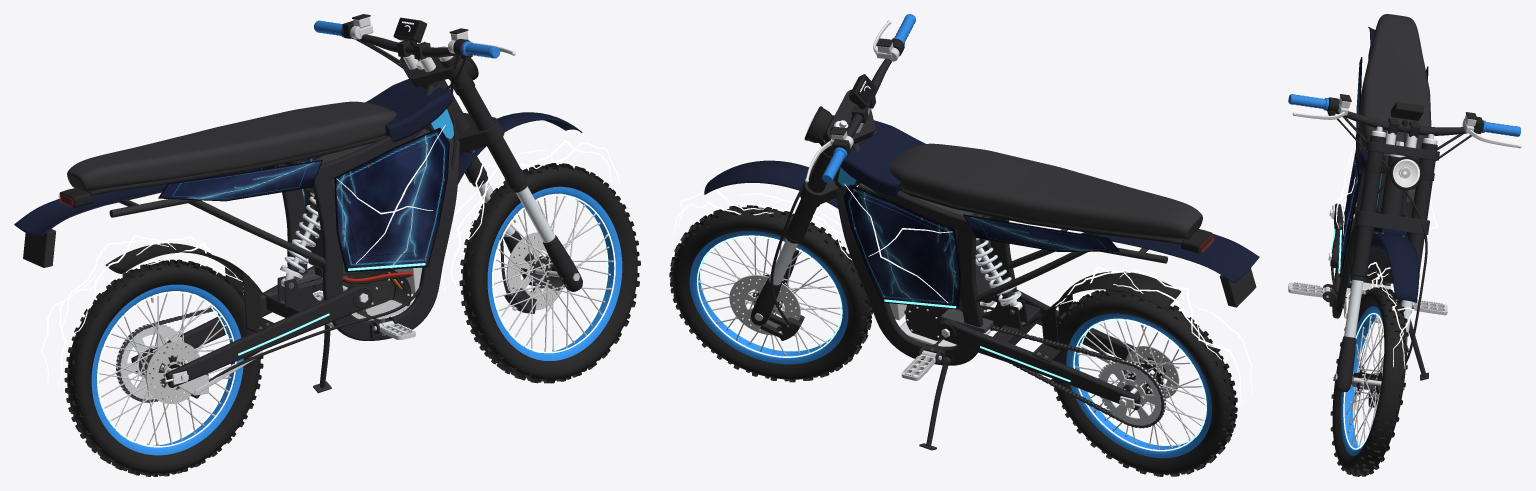
File: surron-light-bee-x-storm.glb
3 renders of one model, left to right at view 1: azimuth 30°, elevation 25°; view 2: azimuth 150°, elevation 25°; view 3: azimuth 270°, elevation 25°, orthographic. The views are drawn at different scales.
Parts seen in each view (by area): view 1: Seat, Tire_R, Tire_F, Frame_Main, SidePanel_Inner_R, Swingarm_Arms, SidePanel_R, Rim_F, Rim_R, RearCover_R, Spokes_F, Spokes_R (+28 smaller); view 2: Seat, Tire_F, Tire_R, Frame_Main, SidePanel_Inner_L, Swingarm_Arms, Rim_F, SidePanel_L, Rim_R, TankCover, RearCover_L, RearFender (+24 smaller); view 3: Seat, Tire_F, FrontFender, Fork_Upper_R, Spokes_F, Frame_Main, Rim_F, Fork_Upper_L, TripleClamp_Lower, Battery_Pack, Handlebar, Fork_Lug_R (+24 smaller).
Boxes of the visible parts, x1,y1,x2,y2 form: Seat: (67, 101, 396, 191); Tire_R: (64, 259, 263, 476); Tire_F: (459, 163, 640, 383); Frame_Main: (275, 82, 459, 340); SidePanel_Inner_R: (347, 141, 439, 256); Swingarm_Arms: (131, 266, 372, 387); SidePanel_R: (334, 127, 449, 272); Rim_F: (487, 186, 622, 360); Rim_R: (91, 284, 243, 455); RearCover_R: (158, 160, 322, 201); Spokes_F: (492, 196, 612, 351); Spokes_R: (97, 291, 233, 445); Seat: (889, 143, 1202, 239); Tire_F: (669, 205, 873, 382); Tire_R: (1050, 289, 1237, 476); Frame_Main: (834, 130, 1016, 365); SidePanel_Inner_L: (854, 196, 947, 296); Swingarm_Arms: (937, 280, 1170, 410); Rim_F: (689, 231, 848, 364); SidePanel_L: (843, 184, 961, 309); Rim_R: (1066, 313, 1211, 458); TankCover: (840, 120, 925, 197); RearCover_L: (963, 214, 1119, 251); RearFender: (1094, 234, 1259, 282); Seat: (1359, 14, 1431, 158); Tire_F: (1330, 287, 1408, 476); FrontFender: (1370, 232, 1419, 302); Fork_Upper_R: (1350, 135, 1386, 277); Spokes_F: (1346, 315, 1383, 447); Frame_Main: (1329, 136, 1411, 318); Rim_F: (1340, 306, 1382, 455); Fork_Upper_L: (1408, 143, 1437, 279); TripleClamp_Lower: (1355, 210, 1429, 234); Battery_Pack: (1350, 174, 1415, 283); Handlebar: (1322, 108, 1483, 135); Fork_Lug_R: (1335, 336, 1355, 391).
Bounding box in the file's own units: 1.97 × 1.19 × 0.7598.
44 materials, 2 textured.
